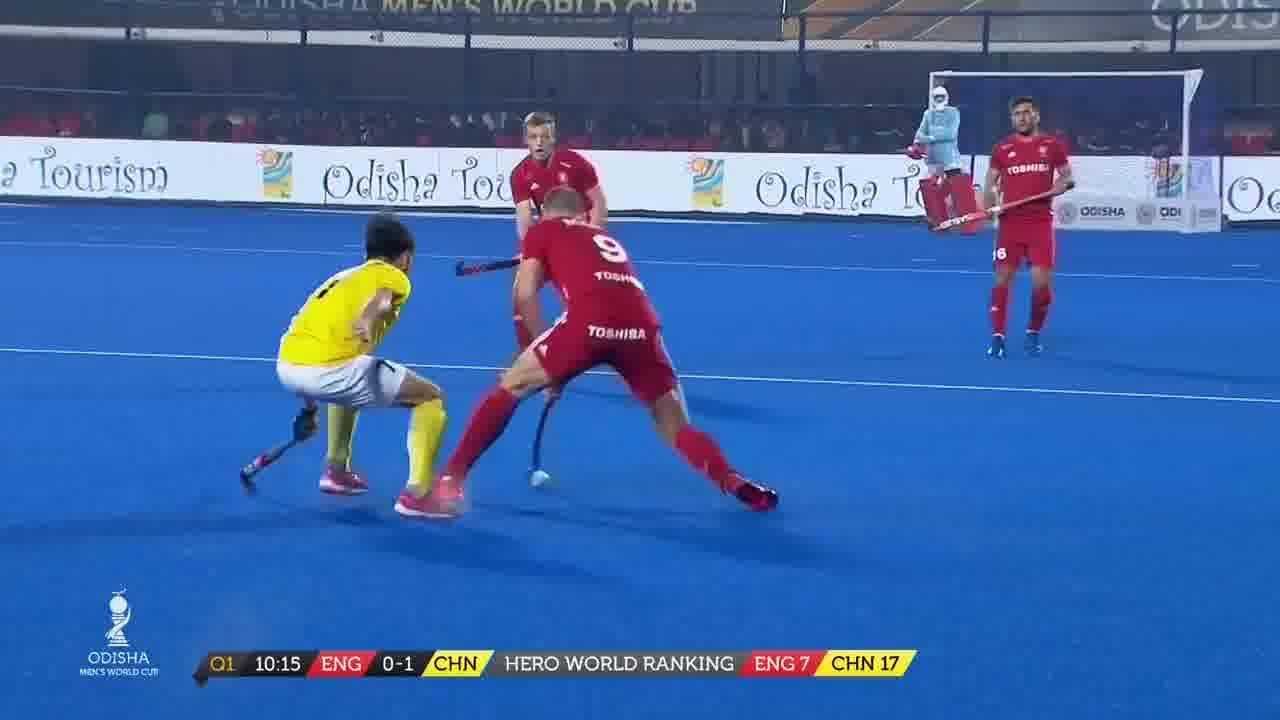ball: (531, 465, 558, 494)
